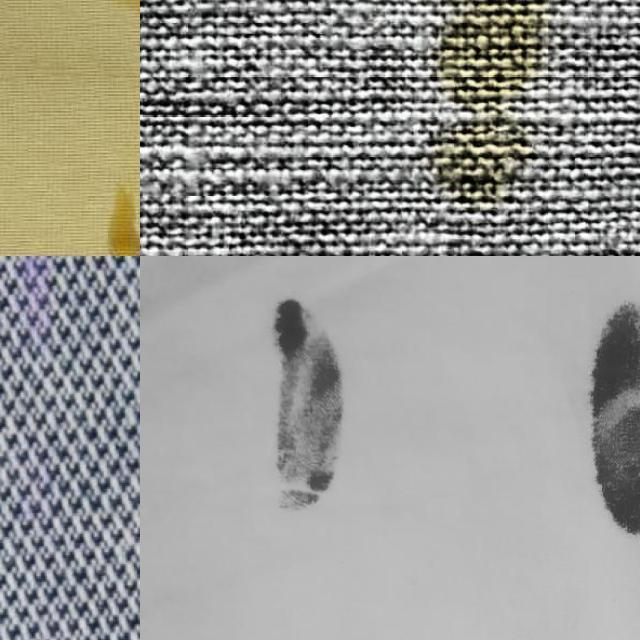Thread_other: (192, 258, 416, 548), (352, 0, 608, 214), (510, 256, 640, 571), (60, 156, 140, 256)
